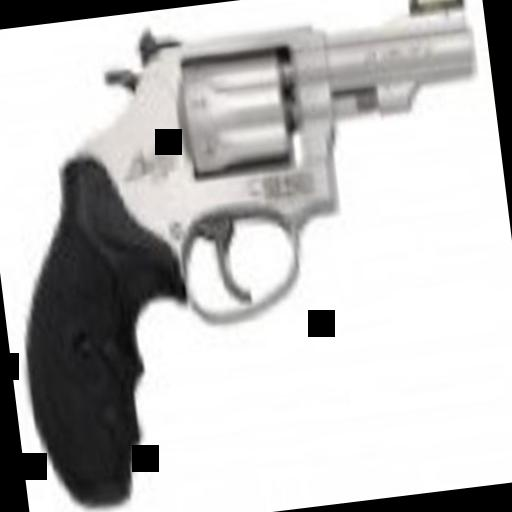Handgun: (0, 0, 512, 503)
